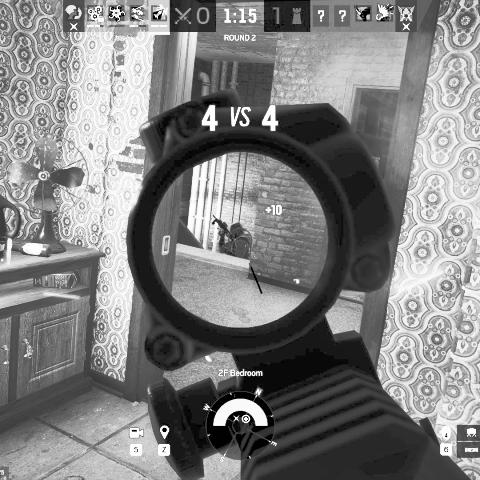Character: (211, 214, 252, 260)
Head: (230, 222, 244, 238)
